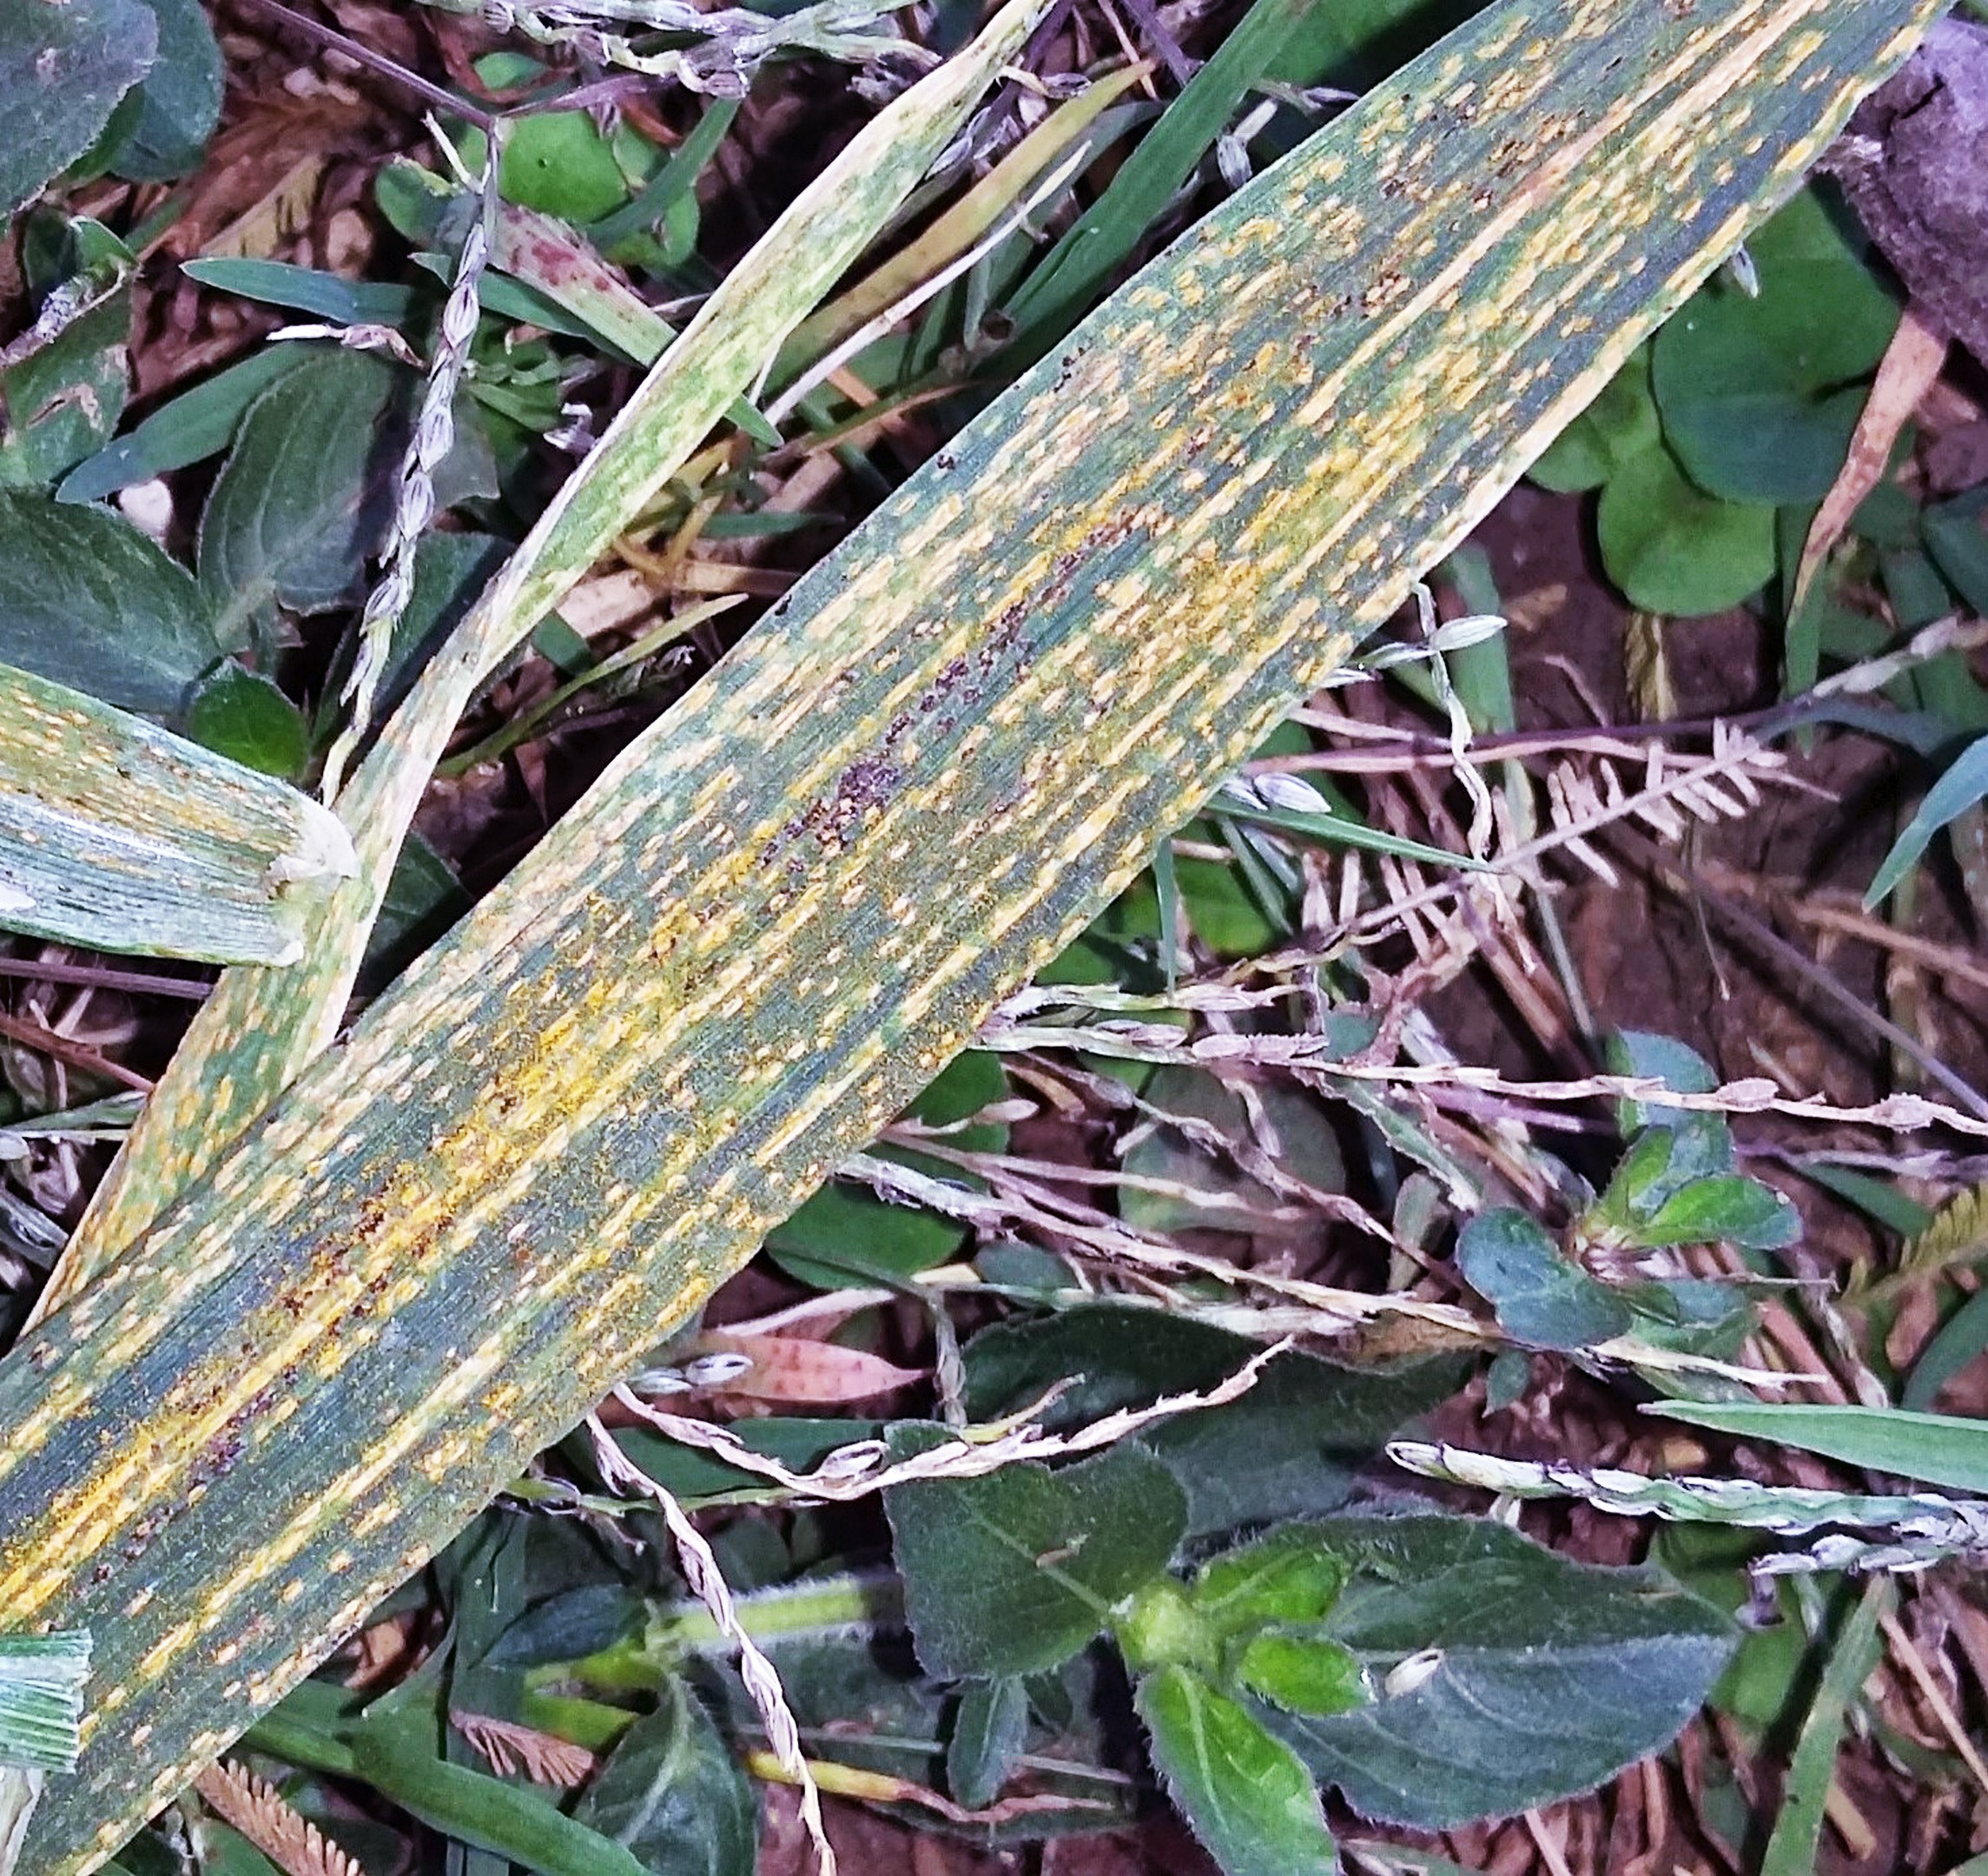Leaf Rust: (423, 153, 1588, 1315)
